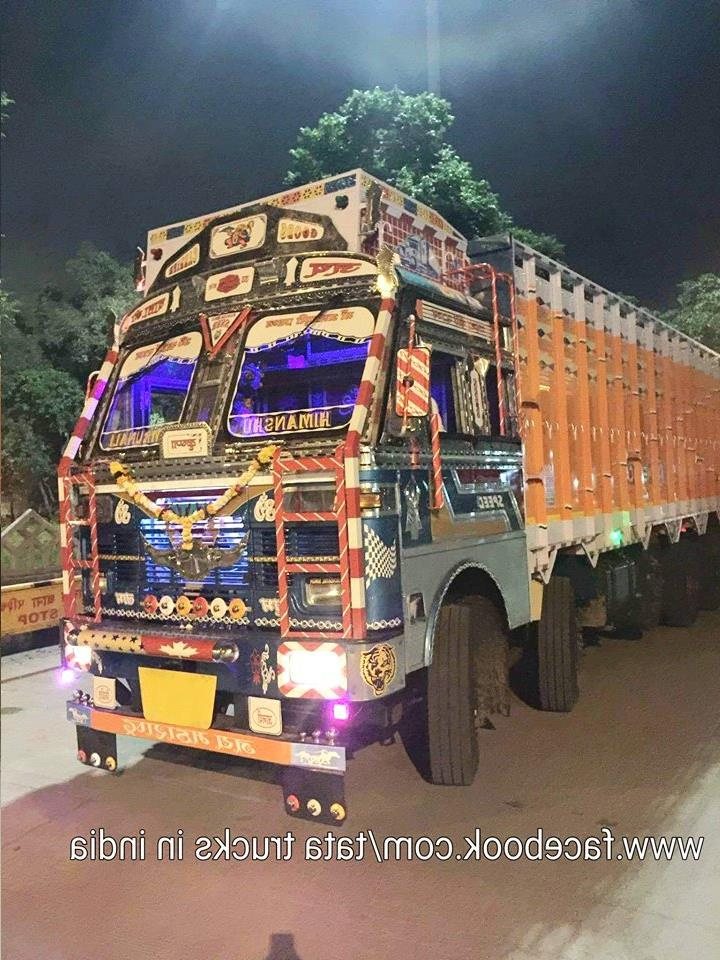truck: (65, 205, 714, 830)
